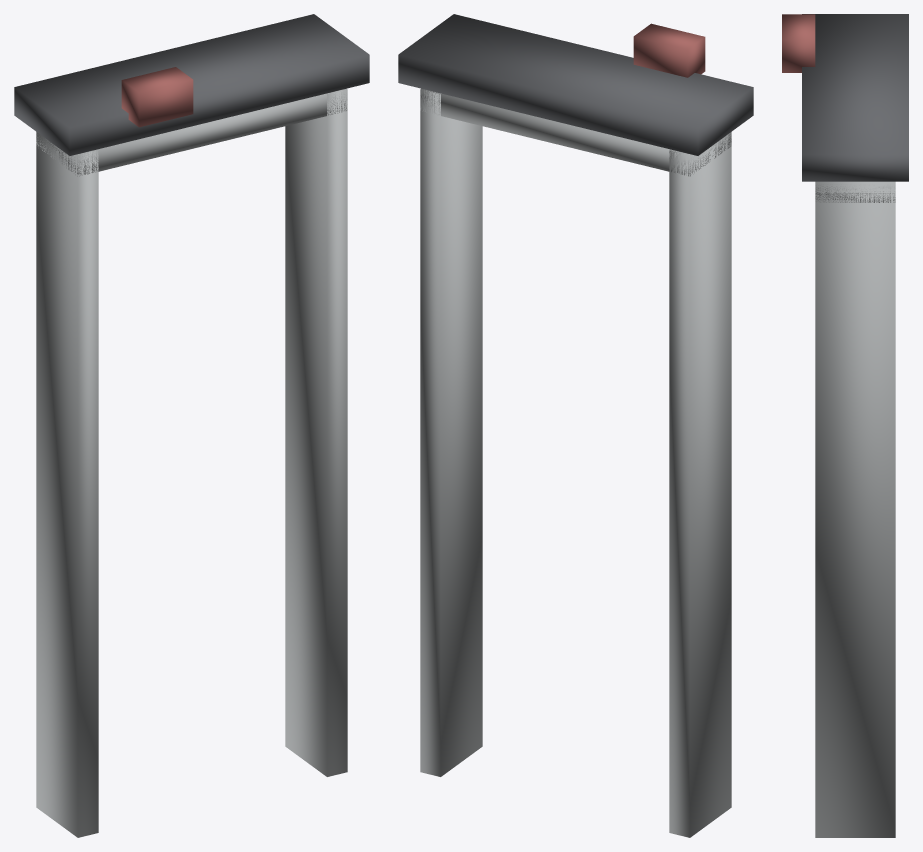
Rendered from doorway_fire_rated_w76_h210_d24.glb.
3 renders of one model, left to right at view 1: azimuth 30°, elevation 25°; view 2: azimuth 150°, elevation 25°; view 3: azimuth 270°, elevation 25°, orthographic. The views are drawn at different scales.
Visible parts, largest first — view 1: world; view 2: world; view 3: world.
Boxes of the visible parts, bbox=[...] form: world: bbox=[14, 14, 369, 837]; world: bbox=[398, 14, 753, 837]; world: bbox=[782, 14, 908, 837].
Bounding box in the file's own units: 0.9968 × 2.37 × 0.38.
